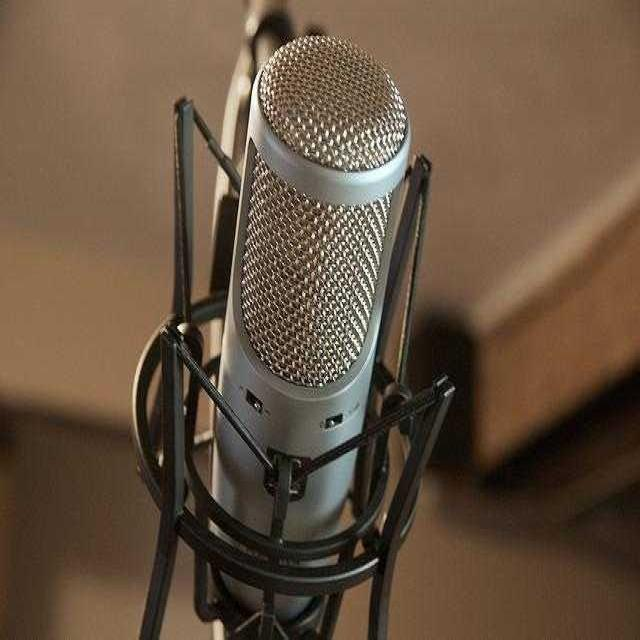microphone: (206, 44, 411, 617)
